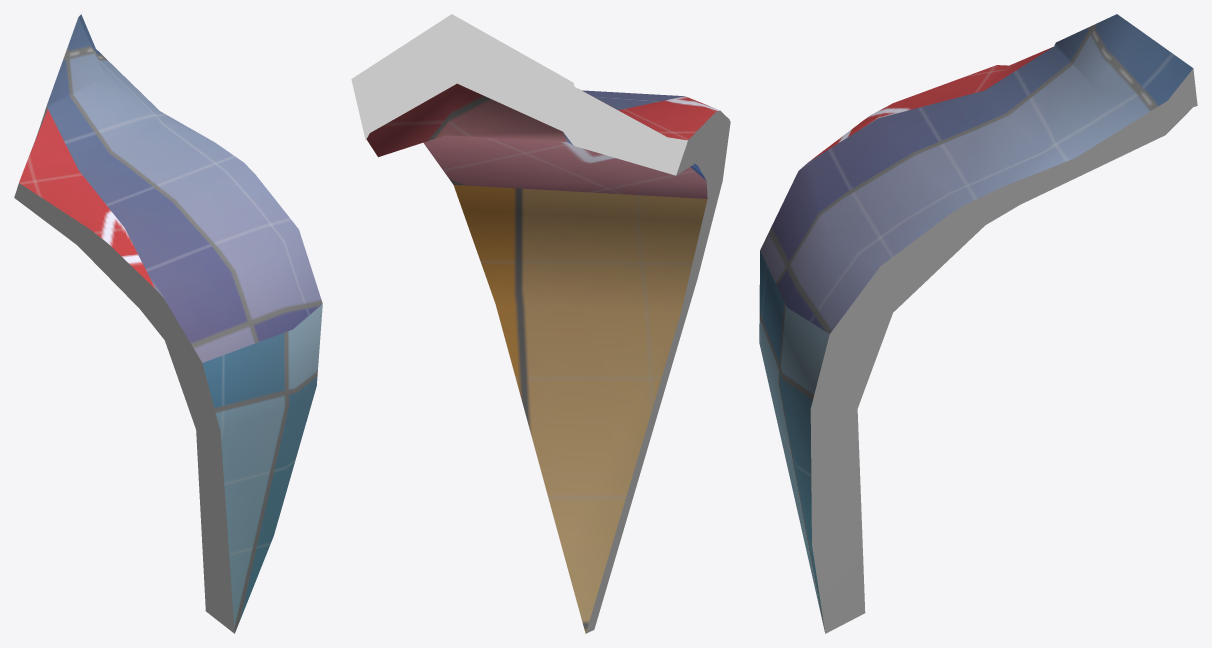
File: MediumVase_SHAT_cell_017.fbx
3 views of the same model, side by side, from view 1: azimuth 30°, elevation 25°; view 2: azimuth 150°, elevation 25°; view 3: azimuth 270°, elevation 25° (orthographic). The views are drawn at different scales.
Visible parts, largest first — view 1: MediumVase_SHAT_cell_017; view 2: MediumVase_SHAT_cell_017; view 3: MediumVase_SHAT_cell_017.
Part boxes in pixels (bbox=[...]): MediumVase_SHAT_cell_017: bbox=[14, 14, 322, 633]; MediumVase_SHAT_cell_017: bbox=[351, 14, 730, 633]; MediumVase_SHAT_cell_017: bbox=[759, 14, 1197, 633].
Bounding box in the file's own units: 0.3737 × 0.8202 × 0.5394.
2 materials, 1 textured.
